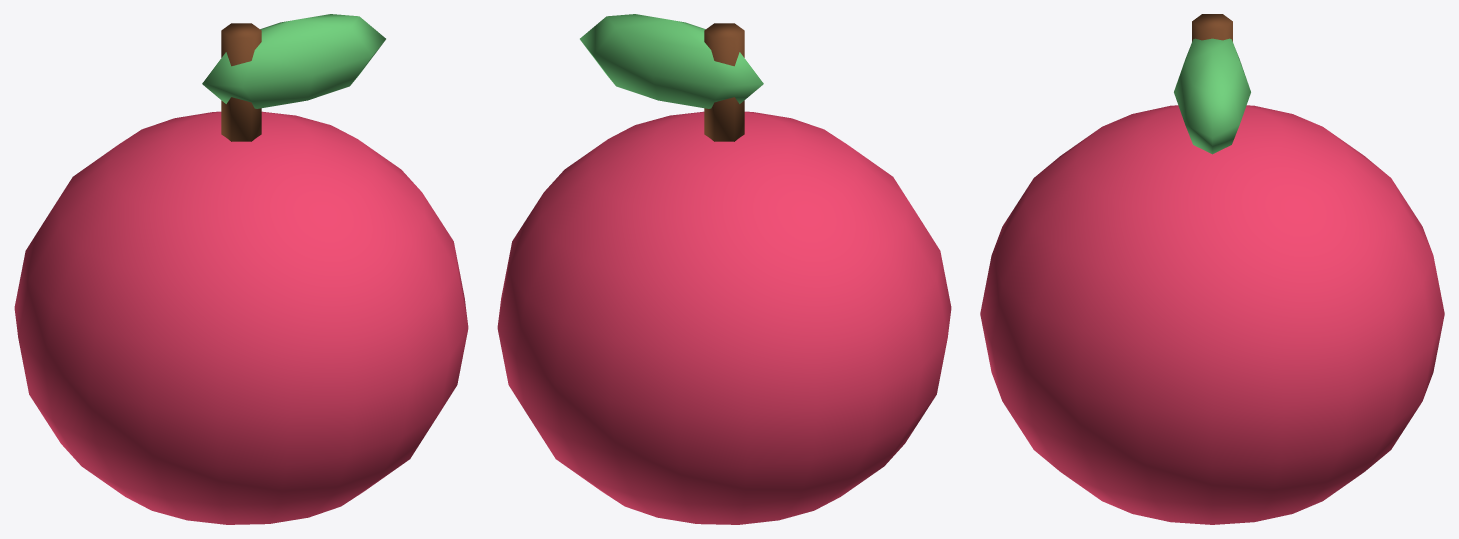
The model's file is apple.glb.
3 renders of one model, left to right at view 1: azimuth 30°, elevation 25°; view 2: azimuth 150°, elevation 25°; view 3: azimuth 270°, elevation 25°, orthographic.
Parts seen in each view (by area): view 1: apple; view 2: apple; view 3: apple.
Boxes of the visible parts, bbox=[...] form: apple: bbox=[14, 14, 468, 524]; apple: bbox=[497, 14, 951, 524]; apple: bbox=[980, 14, 1444, 524].
Bounding box in the file's own units: 0.09 × 0.103 × 0.09.
